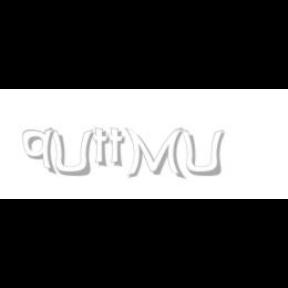M: (124, 128, 184, 180)
U: (48, 128, 94, 178), (180, 128, 224, 178)
q: (22, 128, 58, 176)
t: (92, 128, 114, 168), (108, 128, 130, 168)
